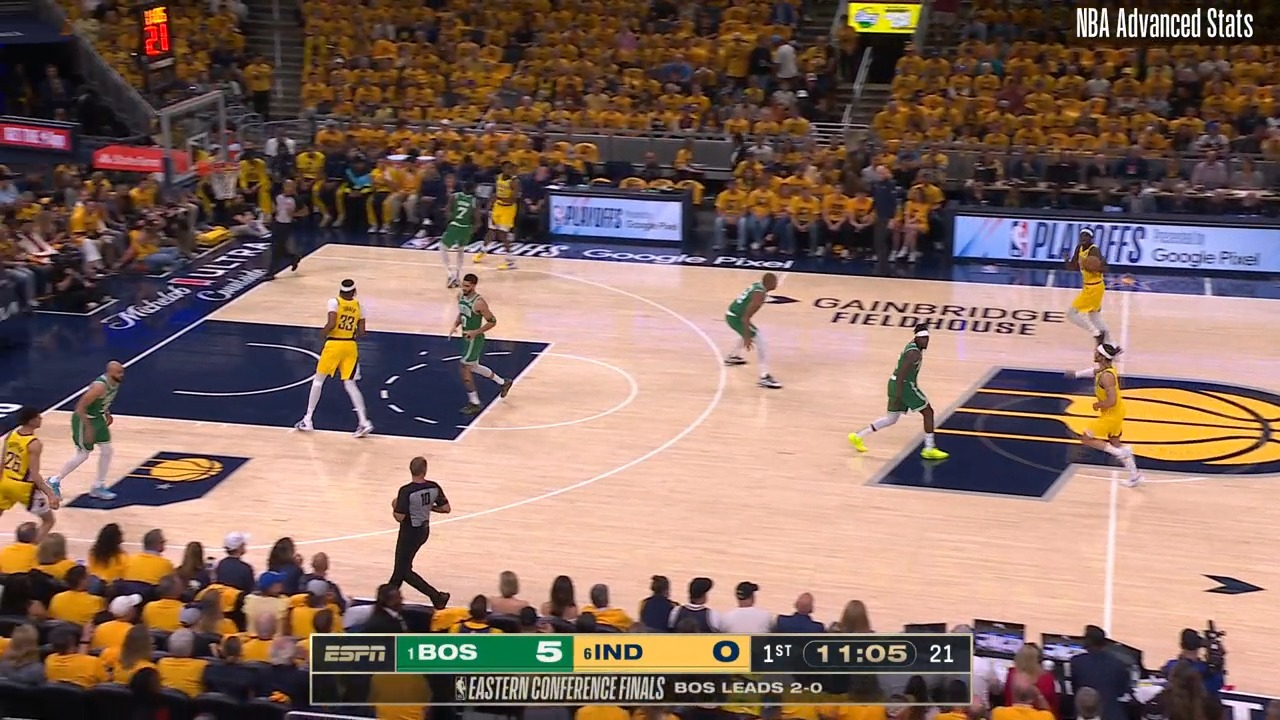basketball: (1082, 251, 1103, 275)
